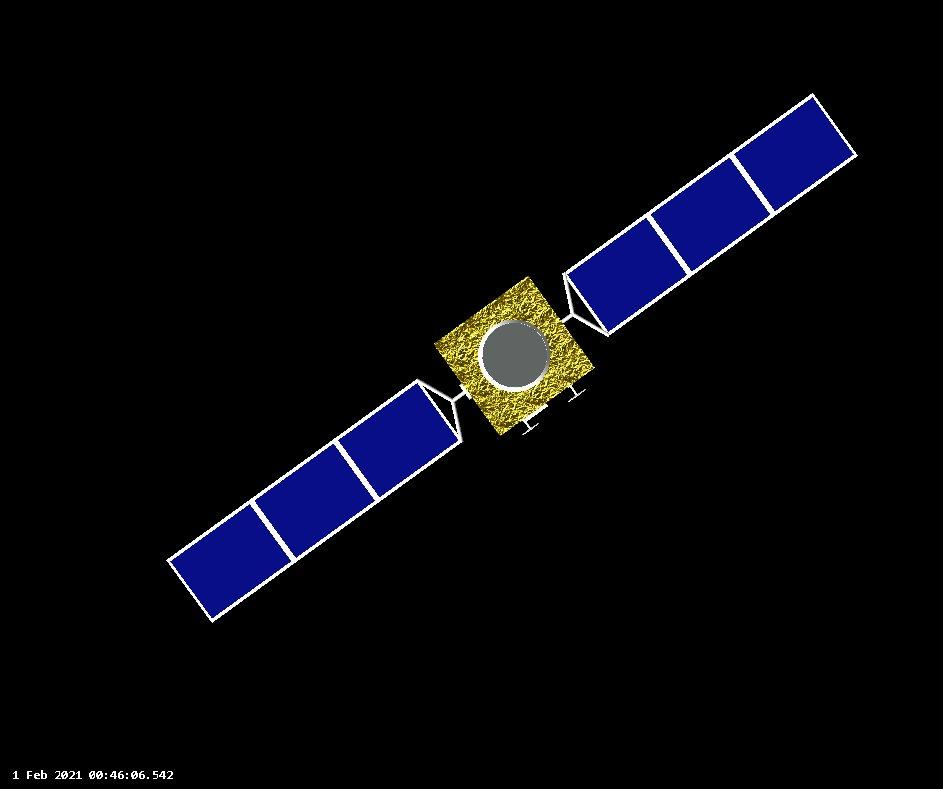antenna: (565, 385, 586, 402), (518, 420, 541, 434)
body: (429, 274, 598, 438)
solar: (559, 88, 861, 339), (164, 380, 470, 624)
